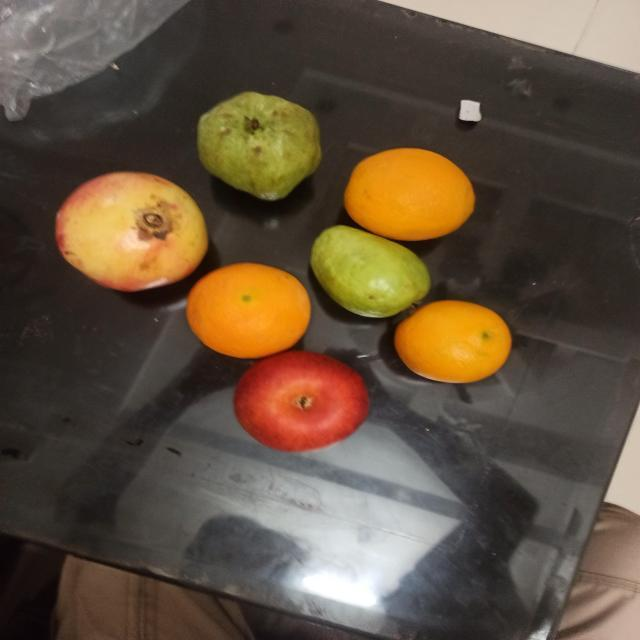apple: (232, 351, 369, 452)
